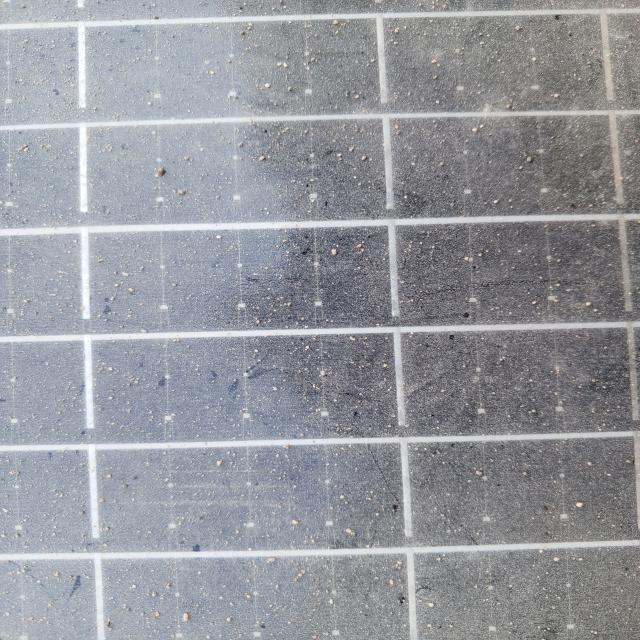Surface Contaminant: (41, 17, 617, 627)
